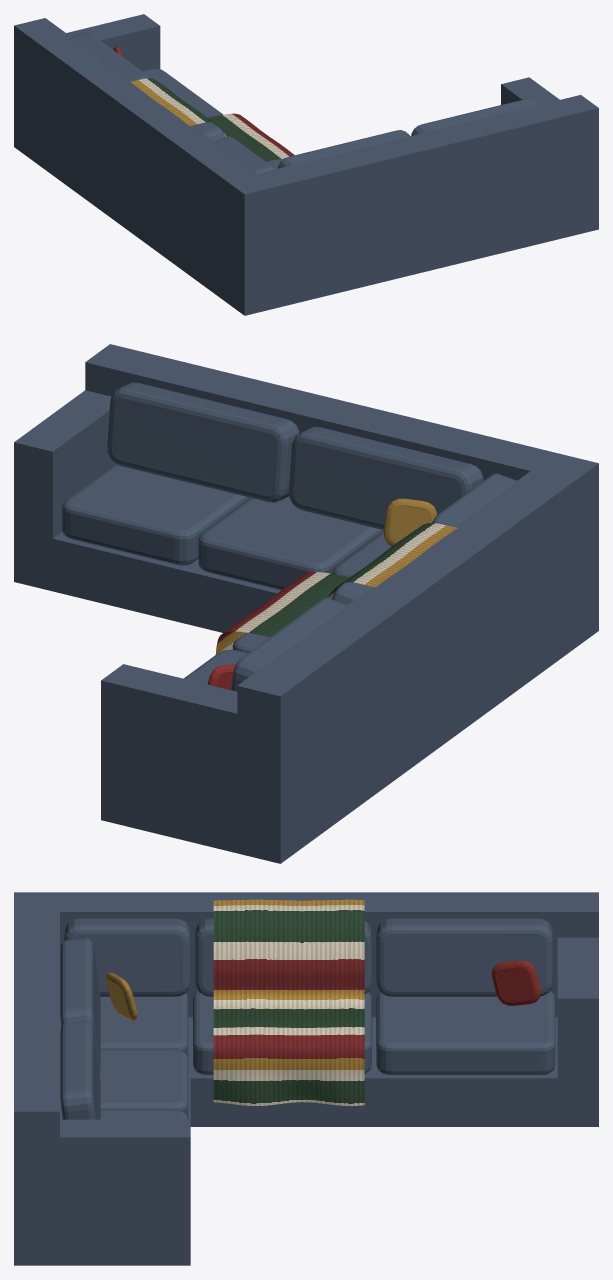
Rendered from sofa.glb.
3 views of the same model, one above another, from view 1: azimuth 30°, elevation 25°; view 2: azimuth 150°, elevation 25°; view 3: azimuth 270°, elevation 25° (orthographic). The views are drawn at different scales.
Visible parts, largest first — view 1: sofa; view 2: sofa; view 3: sofa.
Part boxes in pixels (x1,y1,x2,y2): sofa: [14, 14, 598, 315]; sofa: [14, 344, 598, 863]; sofa: [14, 892, 598, 1265].
Bounding box in the file's own units: 8.24 × 2.83 × 9.3.
Materials: 4 (1 with a texture image).
